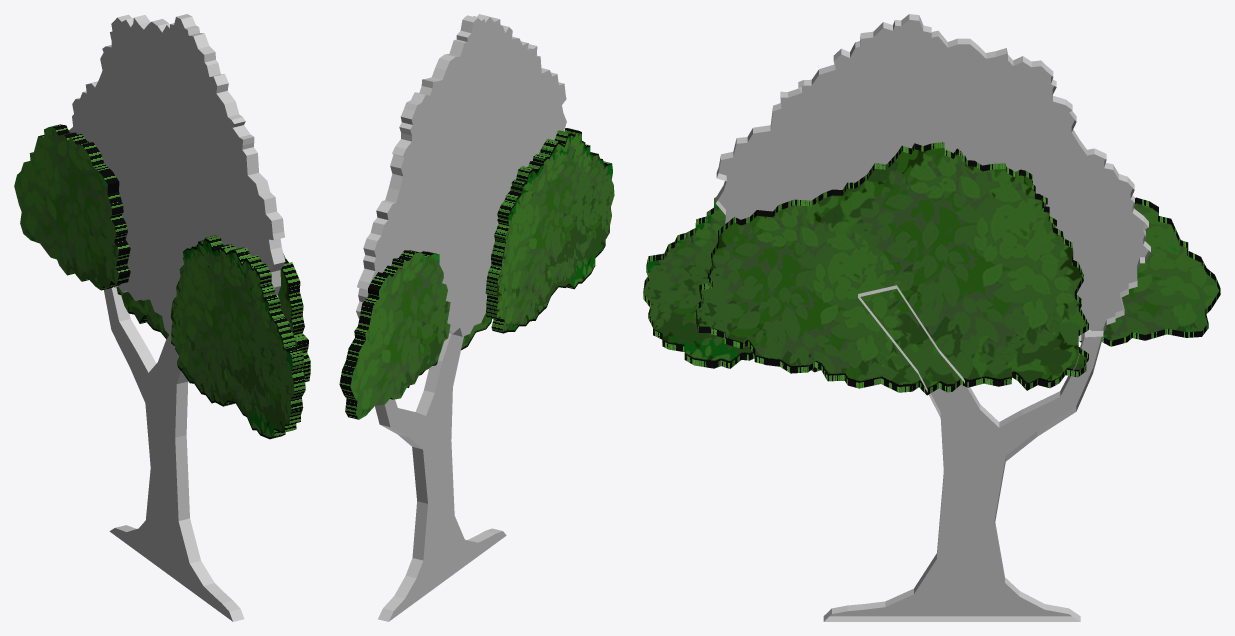
File: Tree1_m.FBX
The picture shows the model from 3 angles, left to right: view 1: azimuth 30°, elevation 25°; view 2: azimuth 150°, elevation 25°; view 3: azimuth 270°, elevation 25°; orthographic projection. The views are drawn at different scales.
Visible parts, largest first — view 1: Tree_A_03, Tree_A_04, Tree_A_01, Tree_A_02, Tree_A_05; view 2: Tree_A_03, Tree_A_04, Tree_A_01, Tree_A_02, Tree_A_05; view 3: Tree_A_05, Tree_A_03, Tree_A_01, Tree_A_02, Tree_A_04.
Boxes of the visible parts, x1,y1,x2,y2 form: Tree_A_03: (68, 14, 285, 336); Tree_A_04: (170, 235, 305, 439); Tree_A_01: (104, 287, 244, 621); Tree_A_02: (14, 124, 130, 290); Tree_A_05: (116, 254, 310, 381); Tree_A_03: (356, 14, 566, 336); Tree_A_04: (485, 128, 614, 333); Tree_A_01: (375, 333, 506, 621); Tree_A_02: (339, 250, 450, 419); Tree_A_05: (407, 313, 491, 387); Tree_A_05: (696, 142, 1088, 395); Tree_A_03: (716, 14, 1150, 340); Tree_A_01: (823, 285, 1103, 621); Tree_A_02: (1079, 197, 1220, 346); Tree_A_04: (643, 197, 820, 372).
Bounding box in the file's own units: 22.81 × 287 × 252.
